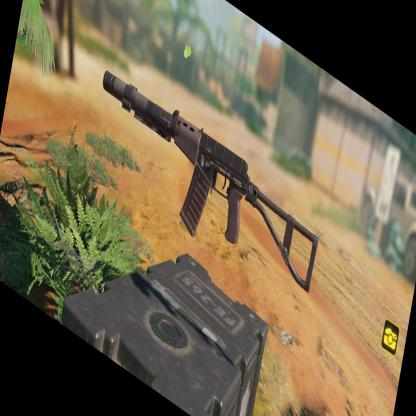rifle: (80, 43, 326, 312)
